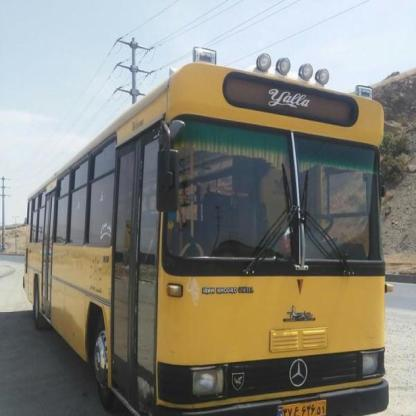Bus: (25, 62, 404, 416)
